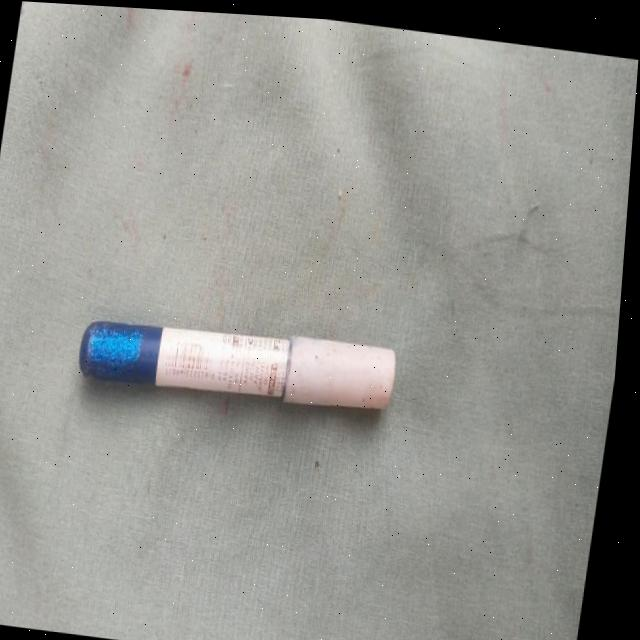highlighter: (73, 288, 413, 438)
